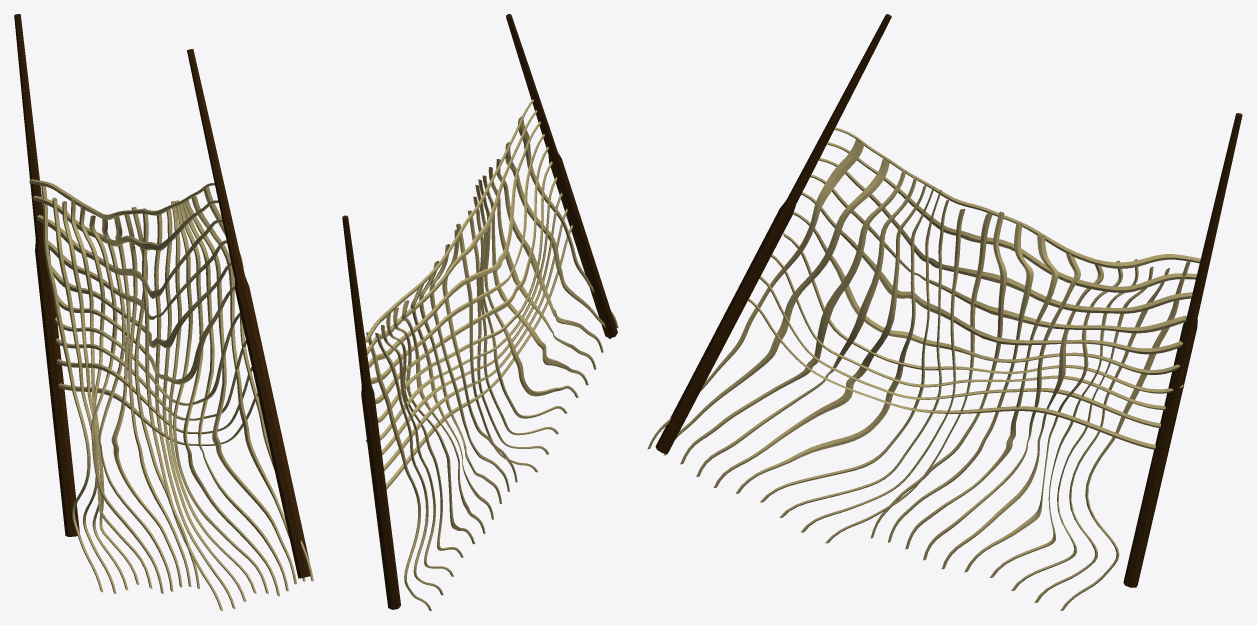
File: FBX_FILET.fbx
3 views of the same model, side by side, from view 1: azimuth 30°, elevation 25°; view 2: azimuth 150°, elevation 25°; view 3: azimuth 270°, elevation 25° (orthographic). The views are drawn at different scales.
Parts seen in each view (by area): view 1: pCylinder21; view 2: pCylinder21; view 3: pCylinder21.
Boxes of the visible parts, x1,y1,x2,y2 form: pCylinder21: (14, 14, 313, 610); pCylinder21: (342, 14, 618, 610); pCylinder21: (647, 14, 1242, 610).
Size of the model in its own units: 35.06 by 523 by 473.
